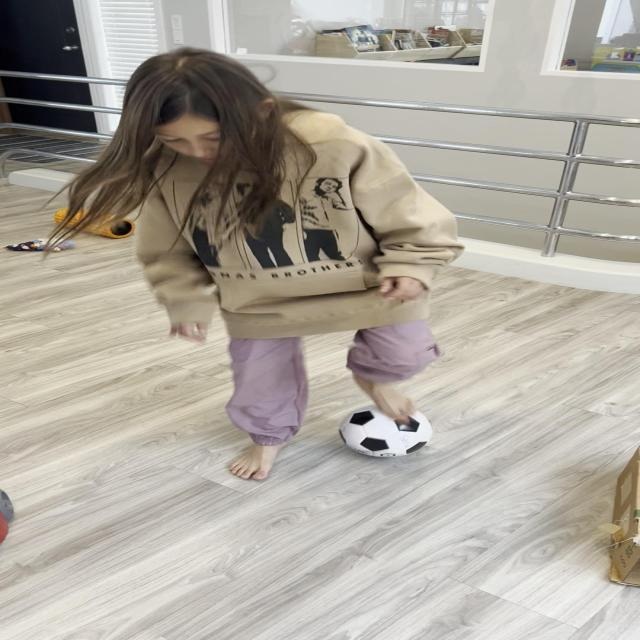Soccer Ball: (338, 402, 434, 458)
